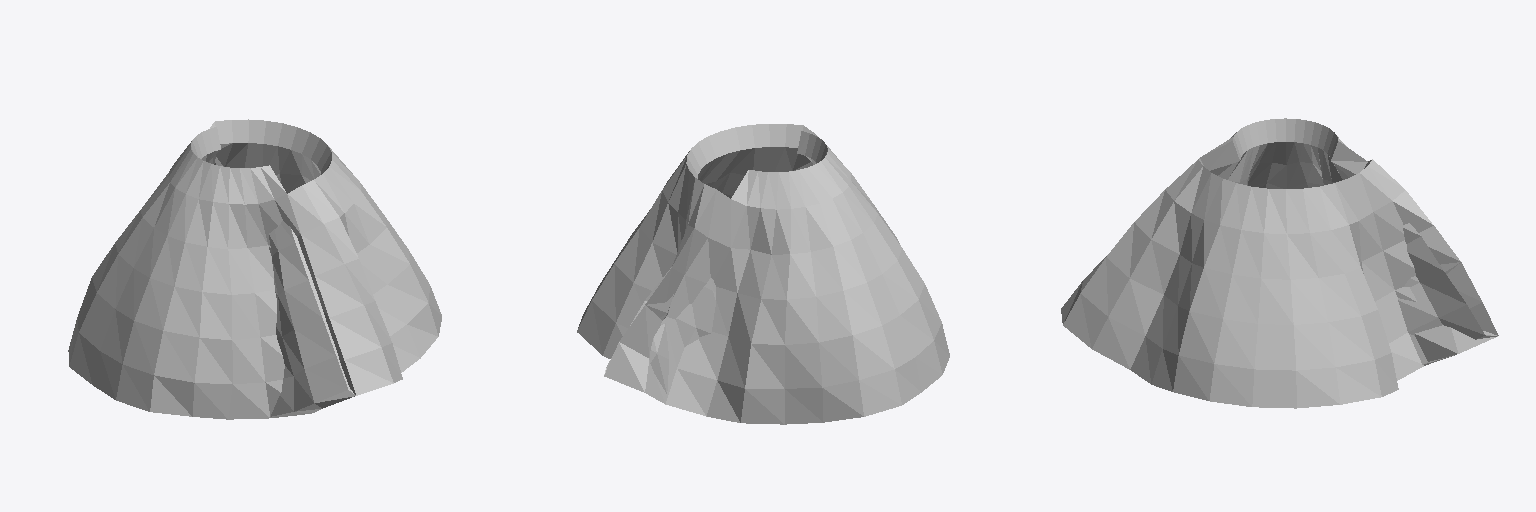
The model's file is skirt1.obj.
3 renders of one model, left to right at view 1: azimuth 30°, elevation 25°; view 2: azimuth 150°, elevation 25°; view 3: azimuth 270°, elevation 25°, orthographic.
Visible parts, largest first — view 1: Sphere; view 2: Sphere; view 3: Sphere.
Part boxes in pixels (left/top/right/bottom): Sphere: left=68, top=119, right=441, bottom=419; Sphere: left=577, top=124, right=949, bottom=424; Sphere: left=1061, top=118, right=1498, bottom=408.
Size of the model in its own units: 4.74 by 3.12 by 5.6.